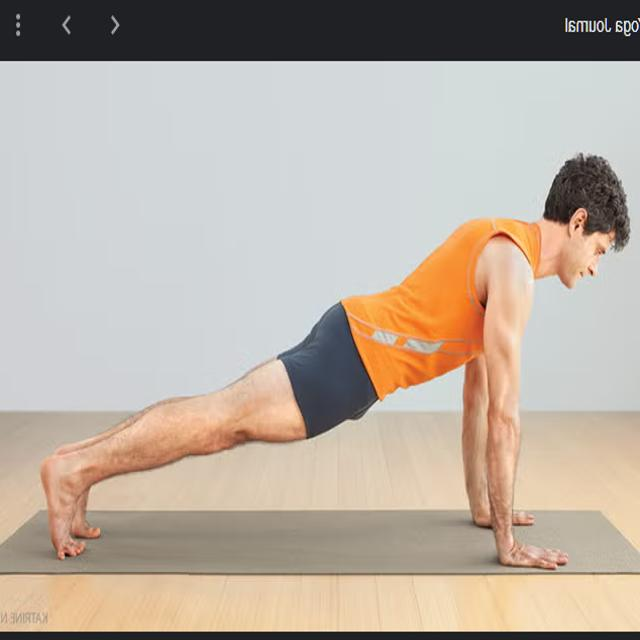Plank_Pose: (40, 153, 640, 583)
